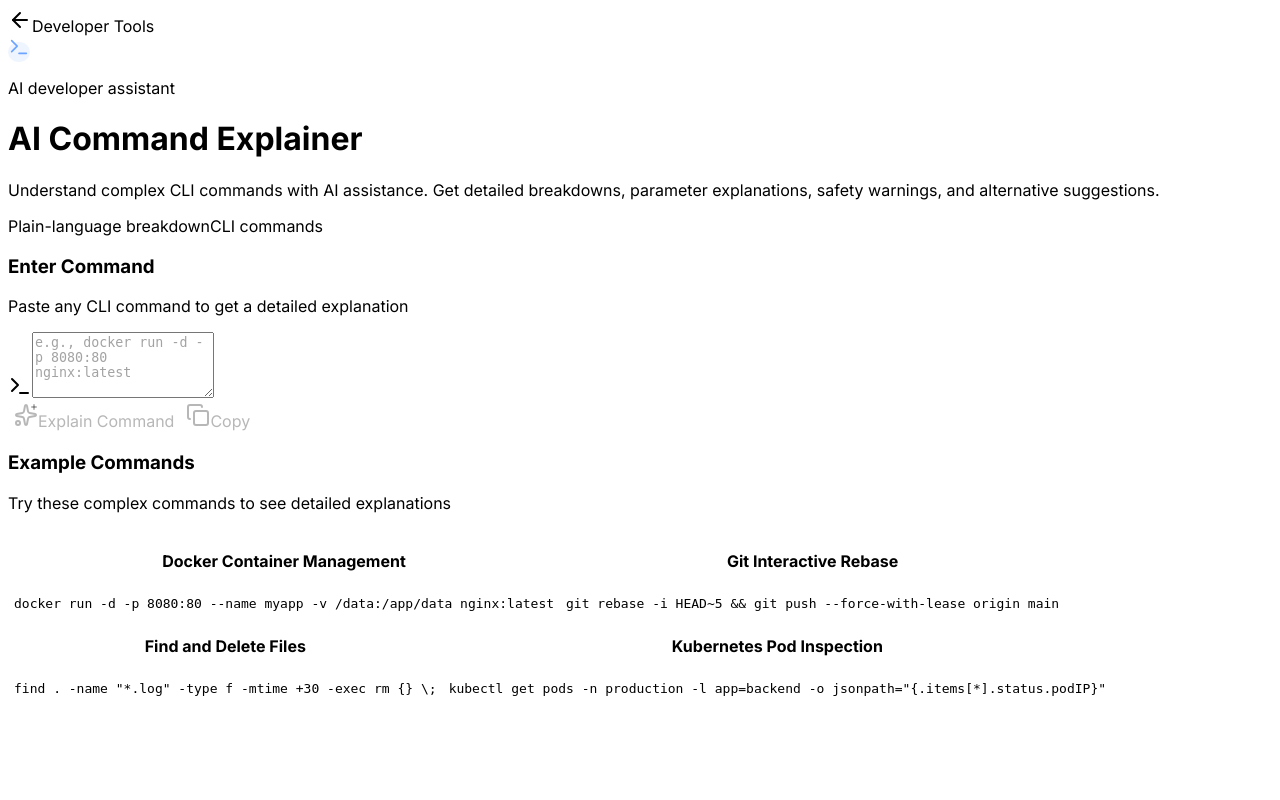
Test: AI Command Explainer - Breakdown Display Tests › should display alternatives section
This screenshot has width=1280, height=800.
Type "find . -name \"*.js\"" into the text box with placeholder "e.g., docker run -d -p 8080:80 nginx:latest". click: (123, 365)
box: [32,332,214,398]
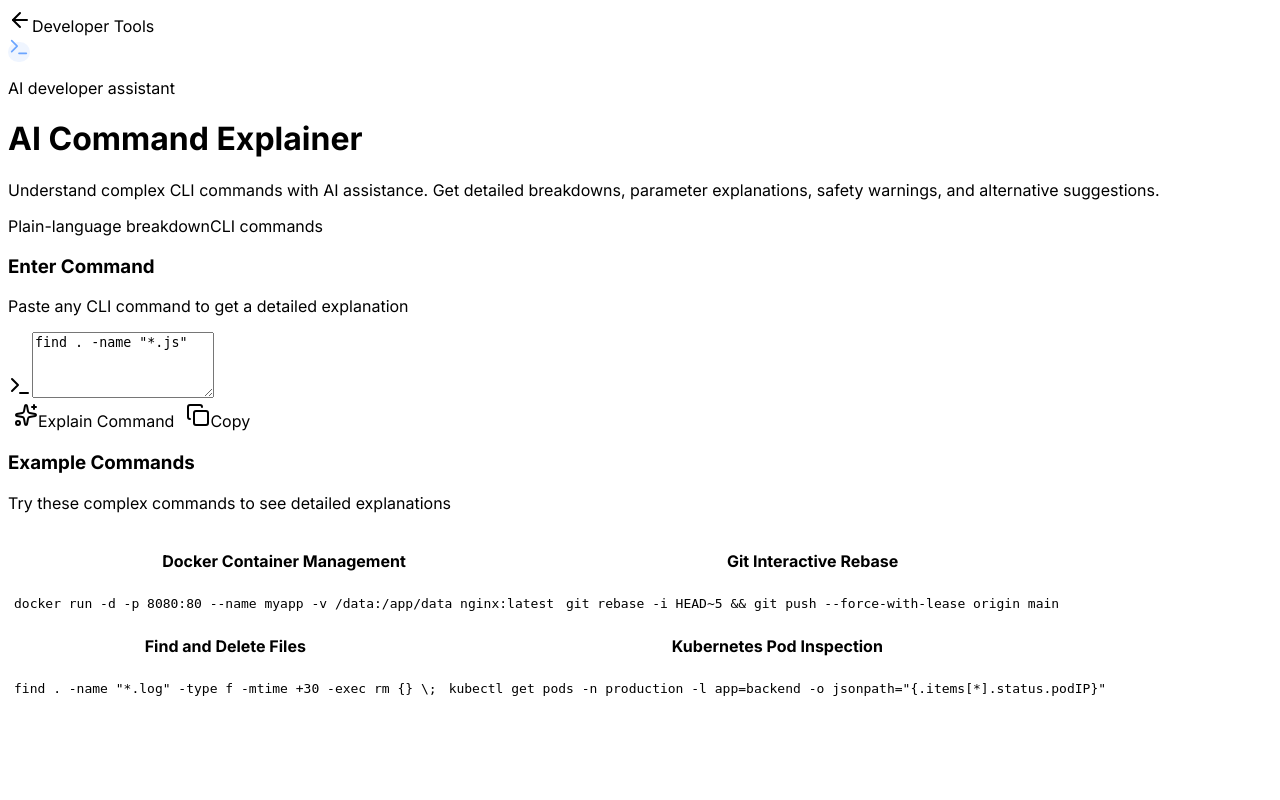
Click the button "Explain Command". click: click(94, 417)
box: [8,402,180,432]
(page scrolled)
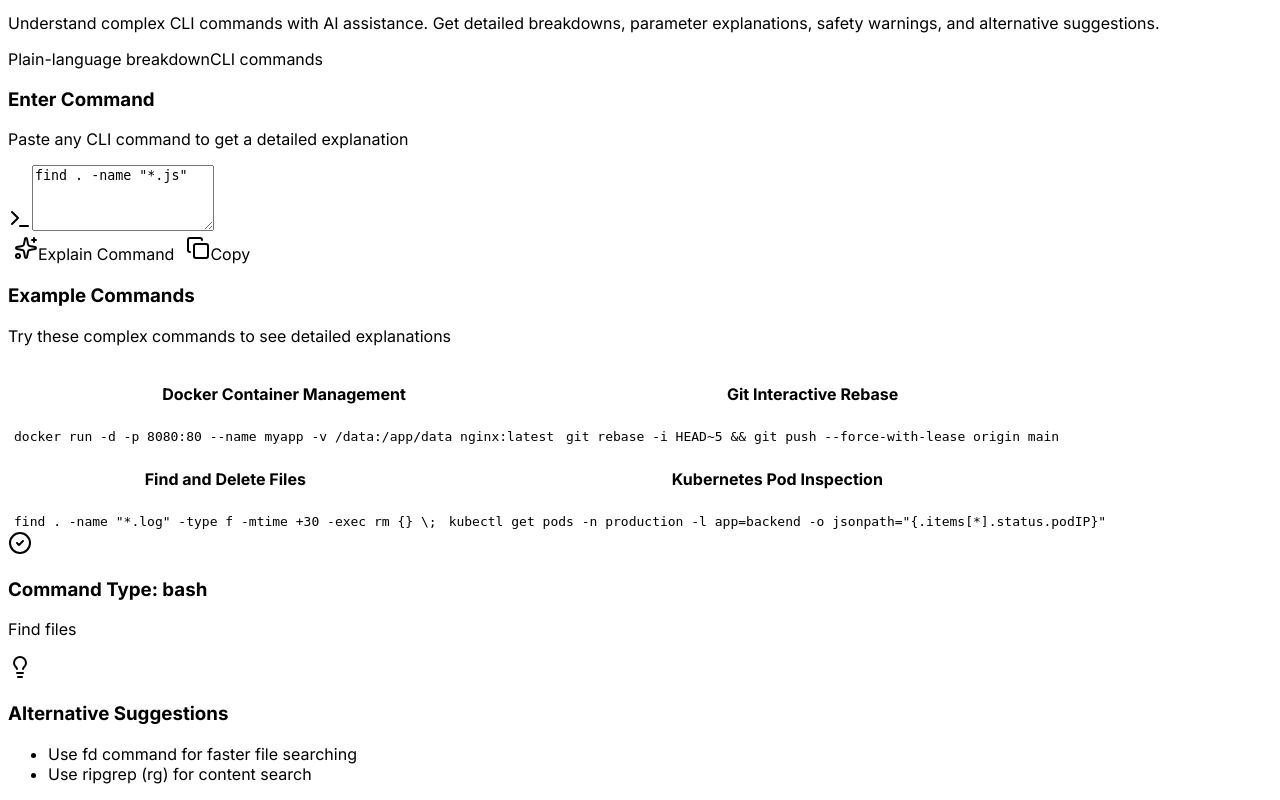
Expected: the heading "Alternative Suggestions" is shown, [8,702,228,725]
Expected: the text "fd command for faster file searching" is shown, [48,744,357,764]
